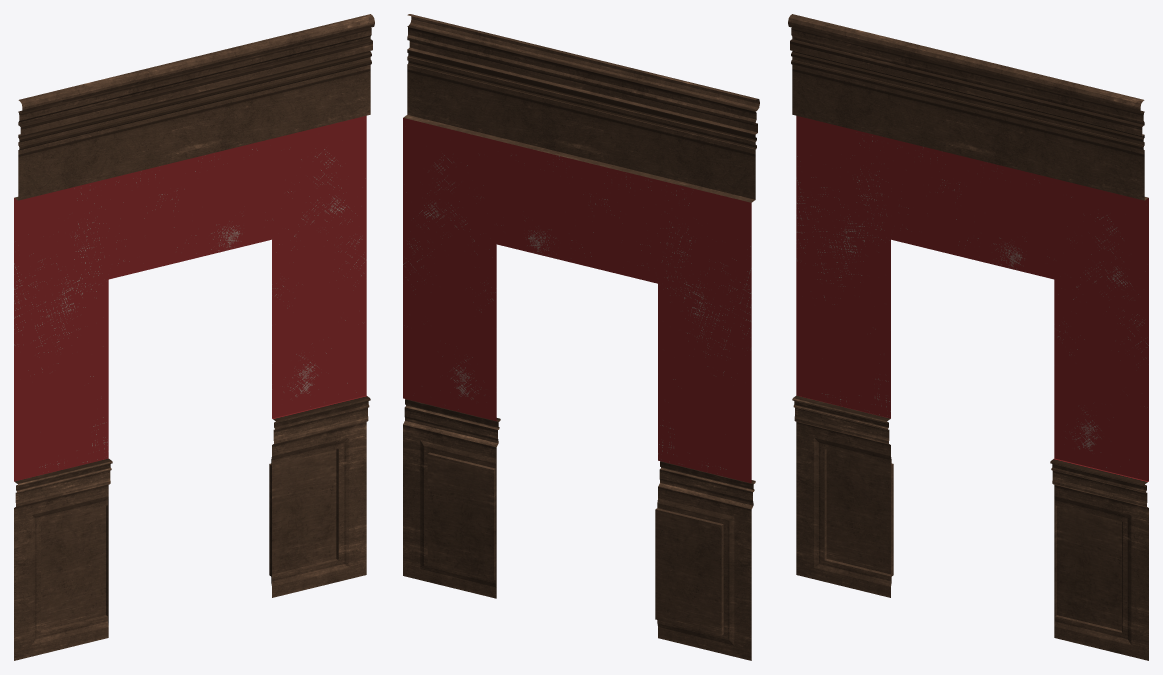
Rendered from SM_Wall_5_001.fbx.
3 views of the same model, side by side, from view 1: azimuth 30°, elevation 25°; view 2: azimuth 150°, elevation 25°; view 3: azimuth 330°, elevation 25° (orthographic).
Visible parts, largest first — view 1: cheminé:cheminé:mr_type_2; view 2: cheminé:cheminé:mr_type_2; view 3: cheminé:cheminé:mr_type_2.
Part boxes in pixels (x1=…): cheminé:cheminé:mr_type_2: x1=14, y1=14, x2=374, y2=660; cheminé:cheminé:mr_type_2: x1=403, y1=14, x2=759, y2=660; cheminé:cheminé:mr_type_2: x1=788, y1=14, x2=1148, y2=660.
Size of the model in its own units: 366 by 560 by 19.99.
